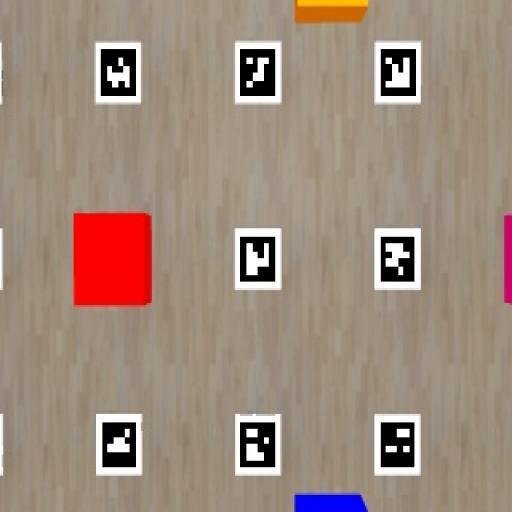car: (295, 493, 367, 511), (503, 214, 511, 305)
fire: (74, 212, 151, 307), (295, 0, 367, 23)
